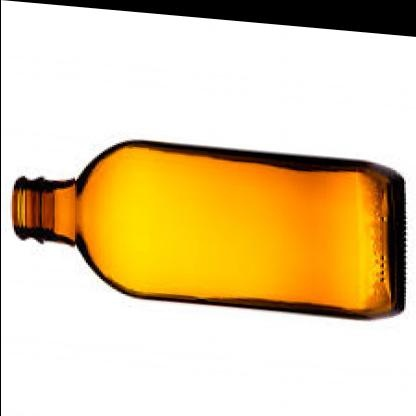trash: (12, 141, 404, 317)
